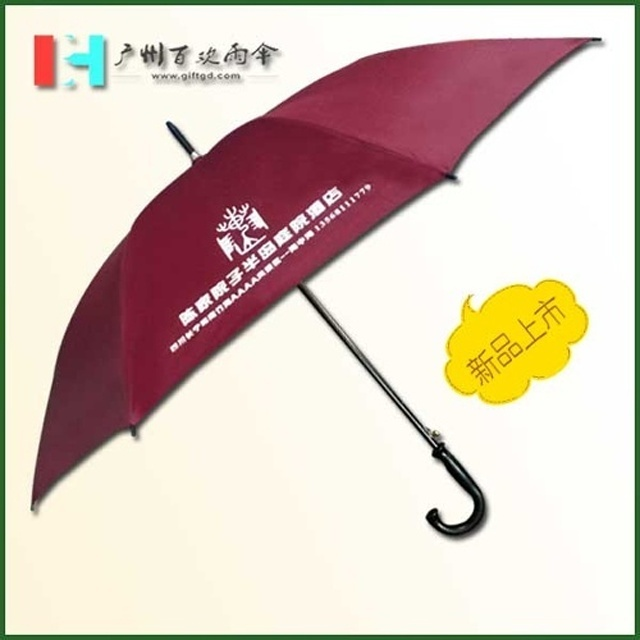umbrella: (24, 33, 610, 544)
